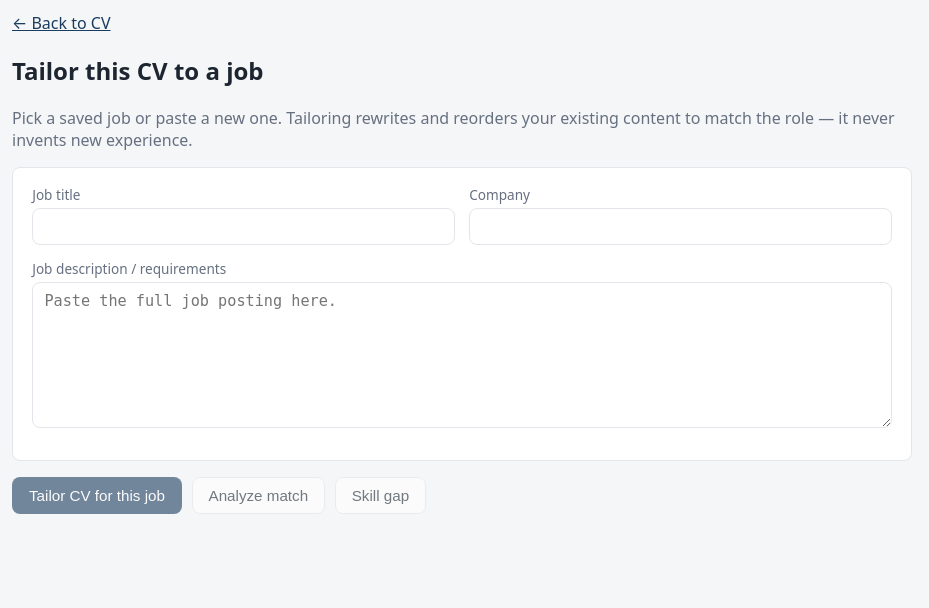
Scenario: <CustomizeCV /> › creates a new job then tailors the CV
In the field labelled "Job title": coordinates (244, 227) [32,208,455,245], type "Backend Engineer"
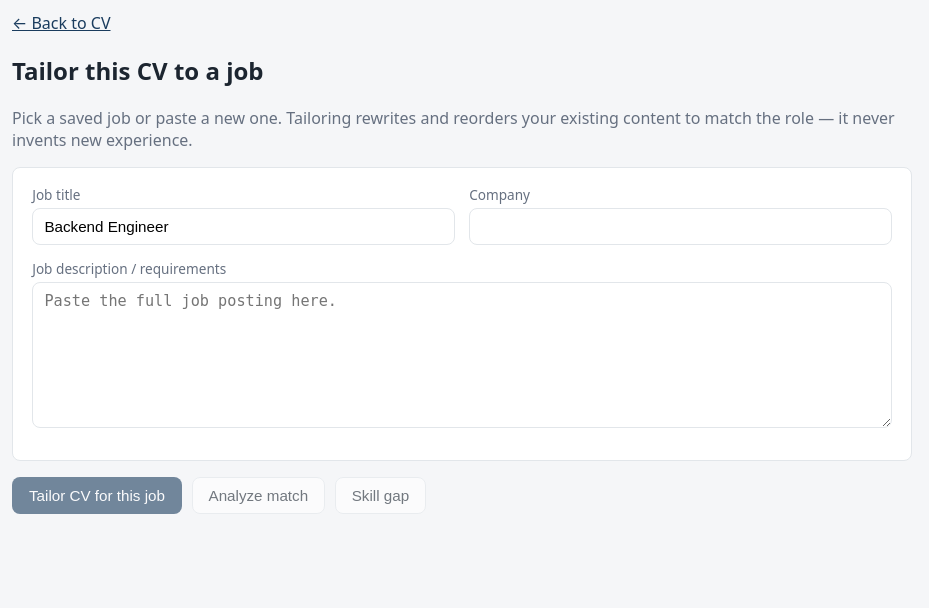
In the text box labelled "Job description / requirements": coordinates (462, 355) [32,282,892,428], type "Python, FastAPI"
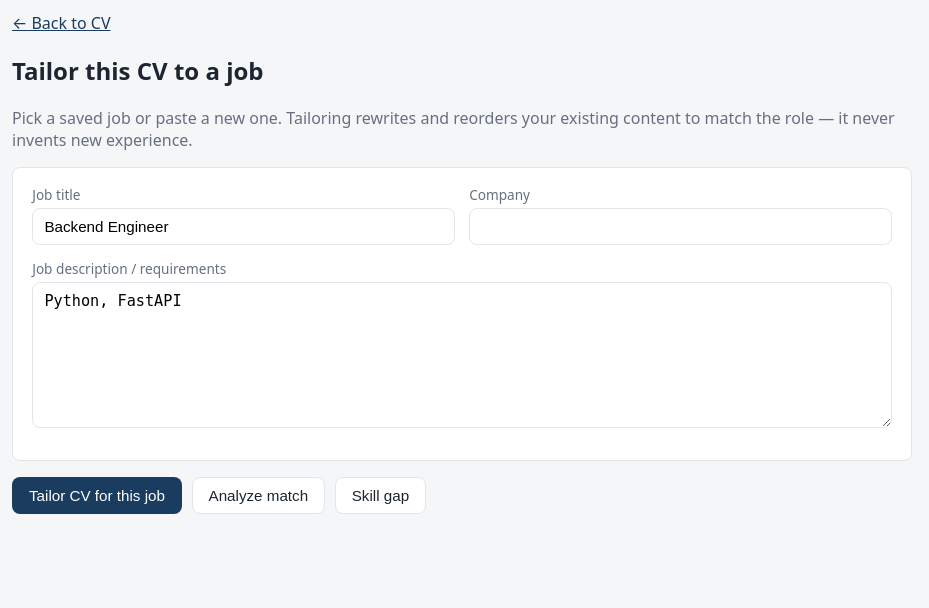
Click the button "Tailor CV for this job": coordinates (97, 495) [12,477,182,514]
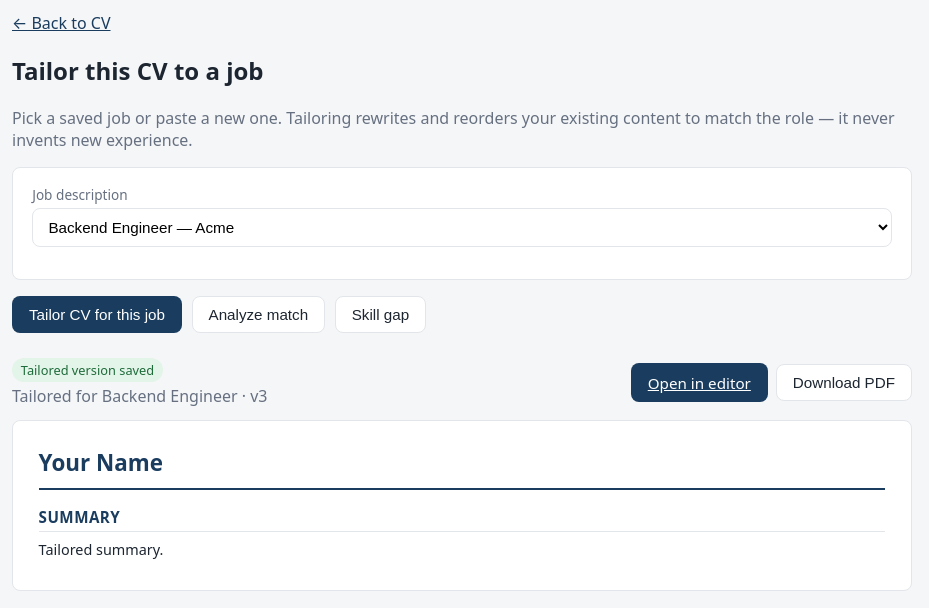
Expected: the text "Tailored version saved" is shown, [12,358,163,382]
Expected: the element named "CV preview" shows "Tailored summary.", [39,540,163,558]
